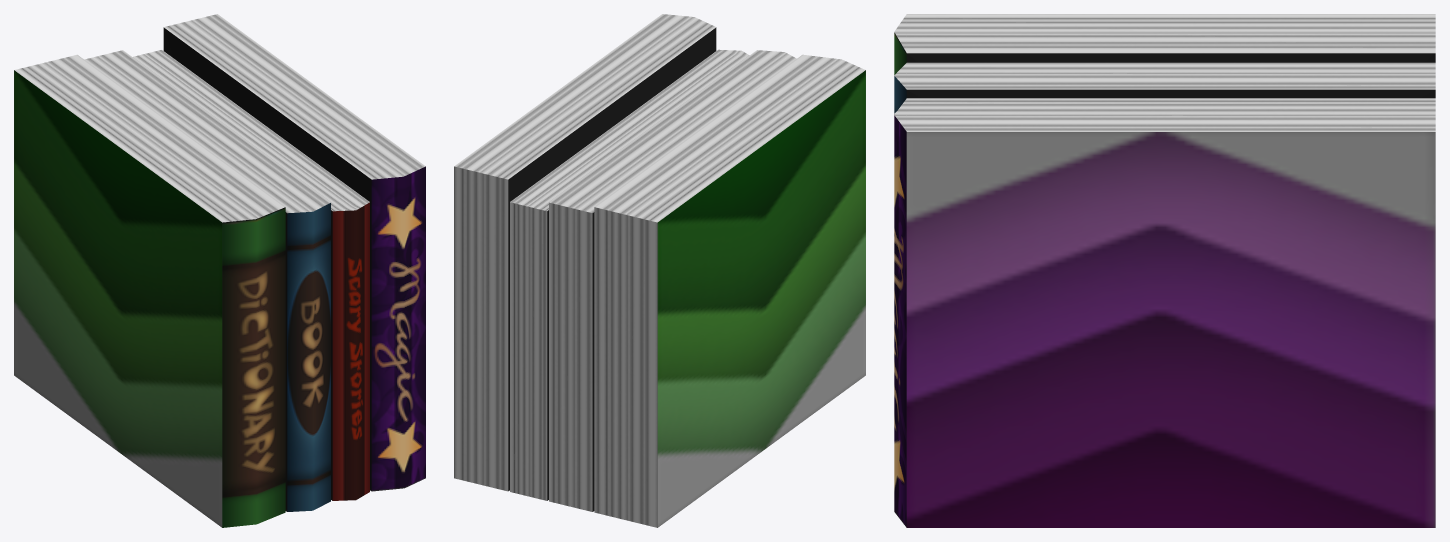
Rendered from Books_F.FBX.
3 views of the same model, side by side, from view 1: azimuth 30°, elevation 25°; view 2: azimuth 150°, elevation 25°; view 3: azimuth 270°, elevation 25° (orthographic). The views are drawn at different scales.
Parts seen in each view (by area): view 1: Books_01; view 2: Books_01; view 3: Books_01.
Part boxes in pixels (x1,y1,x2,y2): Books_01: (14, 14, 425, 527); Books_01: (454, 14, 865, 527); Books_01: (894, 14, 1435, 527).
Bounding box in the file's own units: 36.67 × 53.71 × 66.54.
